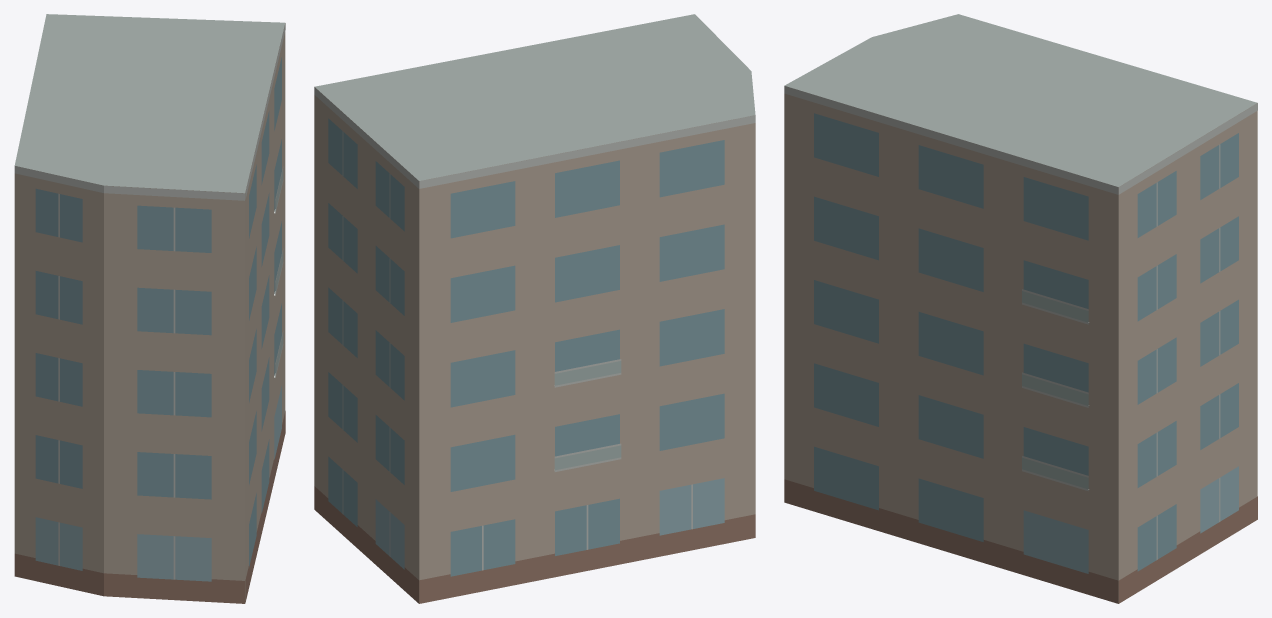
The model's file is survey-upis-32770917.glb.
The picture shows the model from 3 angles, left to right: view 1: azimuth 30°, elevation 25°; view 2: azimuth 150°, elevation 25°; view 3: azimuth 270°, elevation 25°; orthographic projection. The views are drawn at different scales.
Visible parts, largest first — view 1: survey-upis-32770917.tmp; view 2: survey-upis-32770917.tmp; view 3: survey-upis-32770917.tmp.
Boxes of the visible parts, bbox=[...] form: survey-upis-32770917.tmp: bbox=[14, 14, 285, 603]; survey-upis-32770917.tmp: bbox=[314, 14, 755, 603]; survey-upis-32770917.tmp: bbox=[784, 14, 1257, 603].
Bounding box in the file's own units: 11.68 × 13.1 × 13.5.
